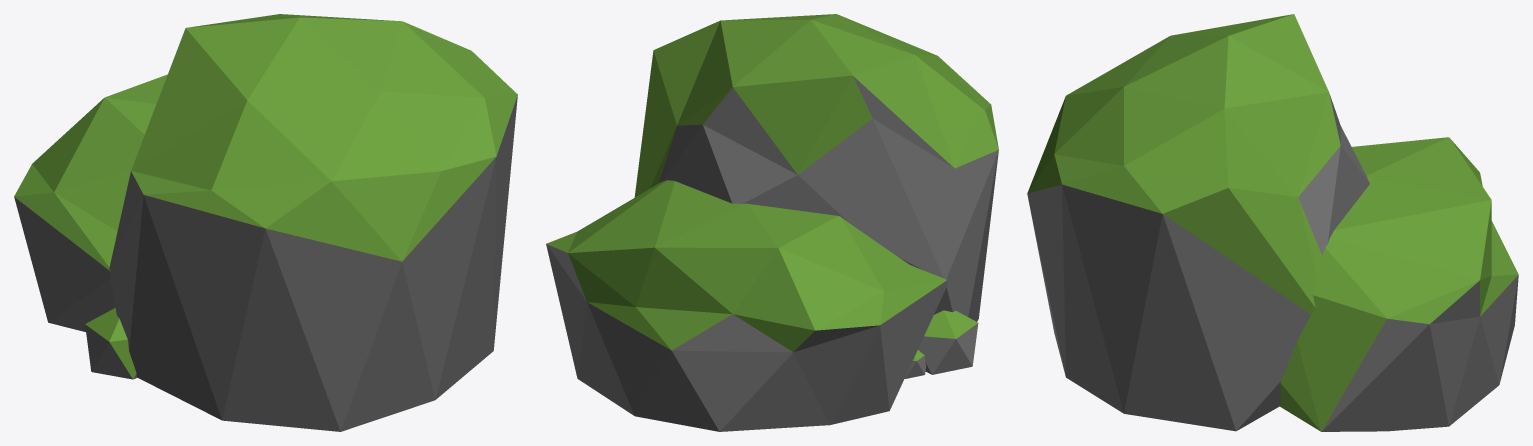
Rendered from Low_poly_Stone_for_games.glb.
3 views of the same model, side by side, from view 1: azimuth 30°, elevation 25°; view 2: azimuth 150°, elevation 25°; view 3: azimuth 270°, elevation 25° (orthographic). The views are drawn at different scales.
Visible parts, largest first — view 1: Icosphere_Material.001_0; view 2: Icosphere_Material.001_0; view 3: Icosphere_Material.001_0.
Boxes of the visible parts, <box> form: Icosphere_Material.001_0: <box>14,14,517,431</box>; Icosphere_Material.001_0: <box>546,14,998,431</box>; Icosphere_Material.001_0: <box>1027,14,1518,431</box>.
Bounding box in the file's own units: 196 × 170 × 232.
1 material, 1 textured.
